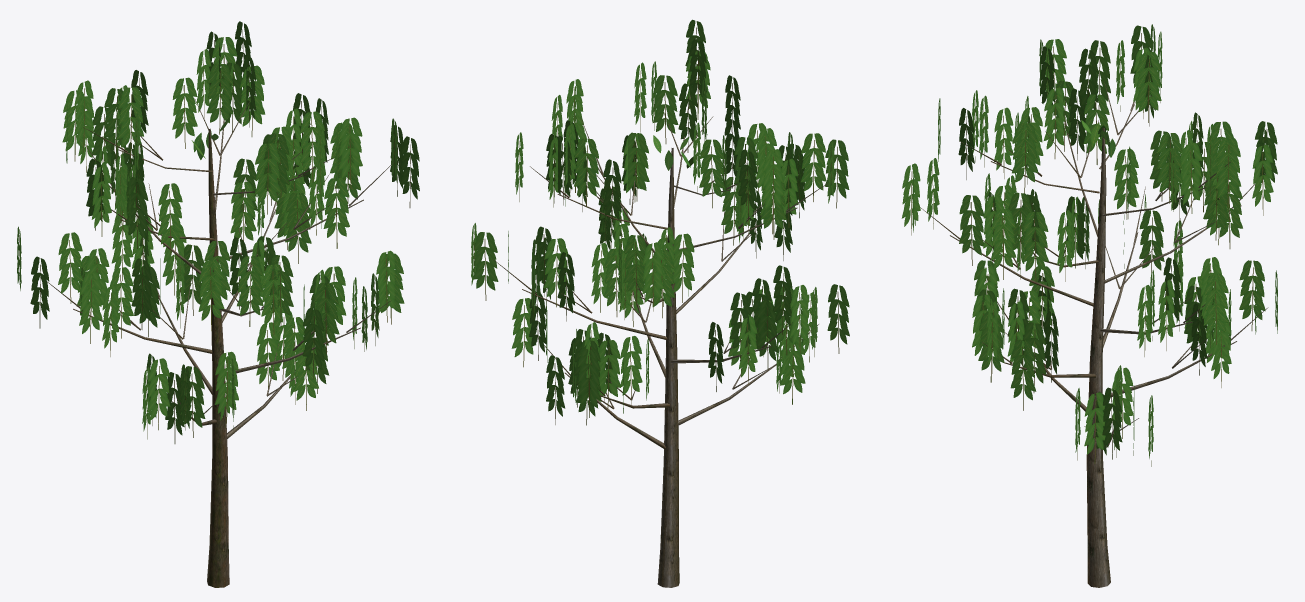
Rendered from birch-mid.gltf.
3 renders of one model, left to right at view 1: azimuth 30°, elevation 25°; view 2: azimuth 150°, elevation 25°; view 3: azimuth 270°, elevation 25°, orthographic. The views are drawn at different scales.
Bounding box in the file's own units: 0.6859 × 1 × 0.7111.
2 materials, 2 textured.
